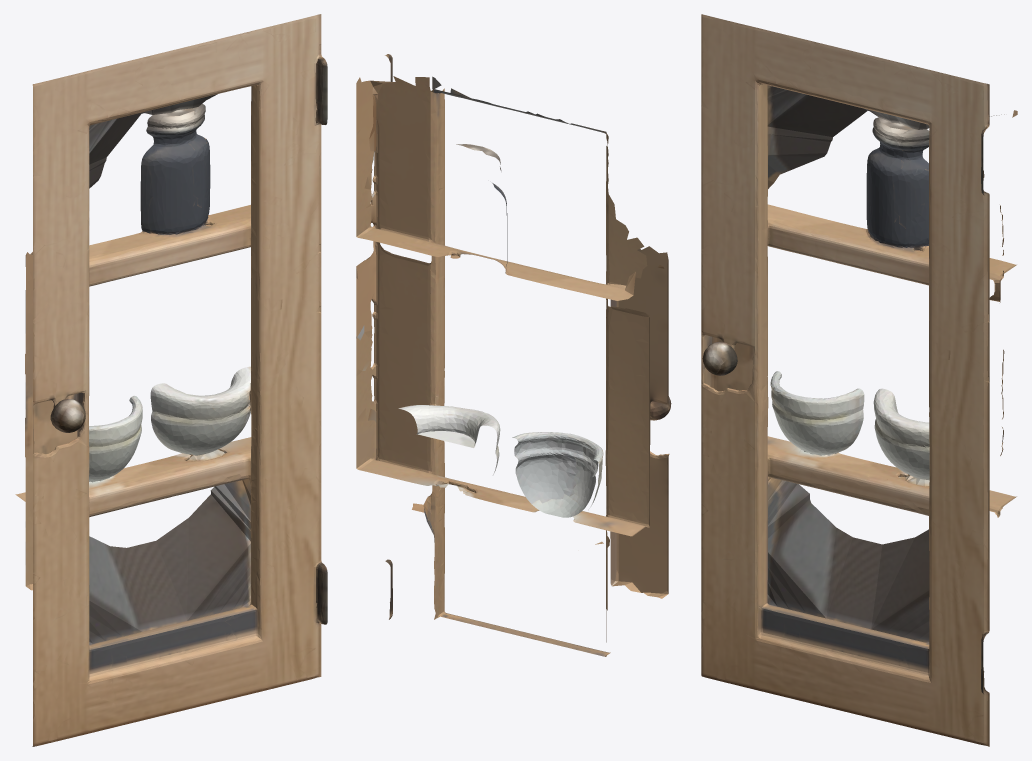
The model's file is door_right.glb.
3 views of the same model, side by side, from view 1: azimuth 30°, elevation 25°; view 2: azimuth 150°, elevation 25°; view 3: azimuth 330°, elevation 25° (orthographic).
Visible parts, largest first — view 1: source_surface_0; view 2: source_surface_0; view 3: source_surface_0.
Boxes of the visible parts, x1=… form: source_surface_0: x1=15, y1=14, x2=327, y2=746; source_surface_0: x1=356, y1=54, x2=671, y2=656; source_surface_0: x1=701, y1=14, x2=1017, y2=746.
Size of the model in its own units: 0.3446 by 0.7567 by 0.0936.
1 material, 1 textured.
